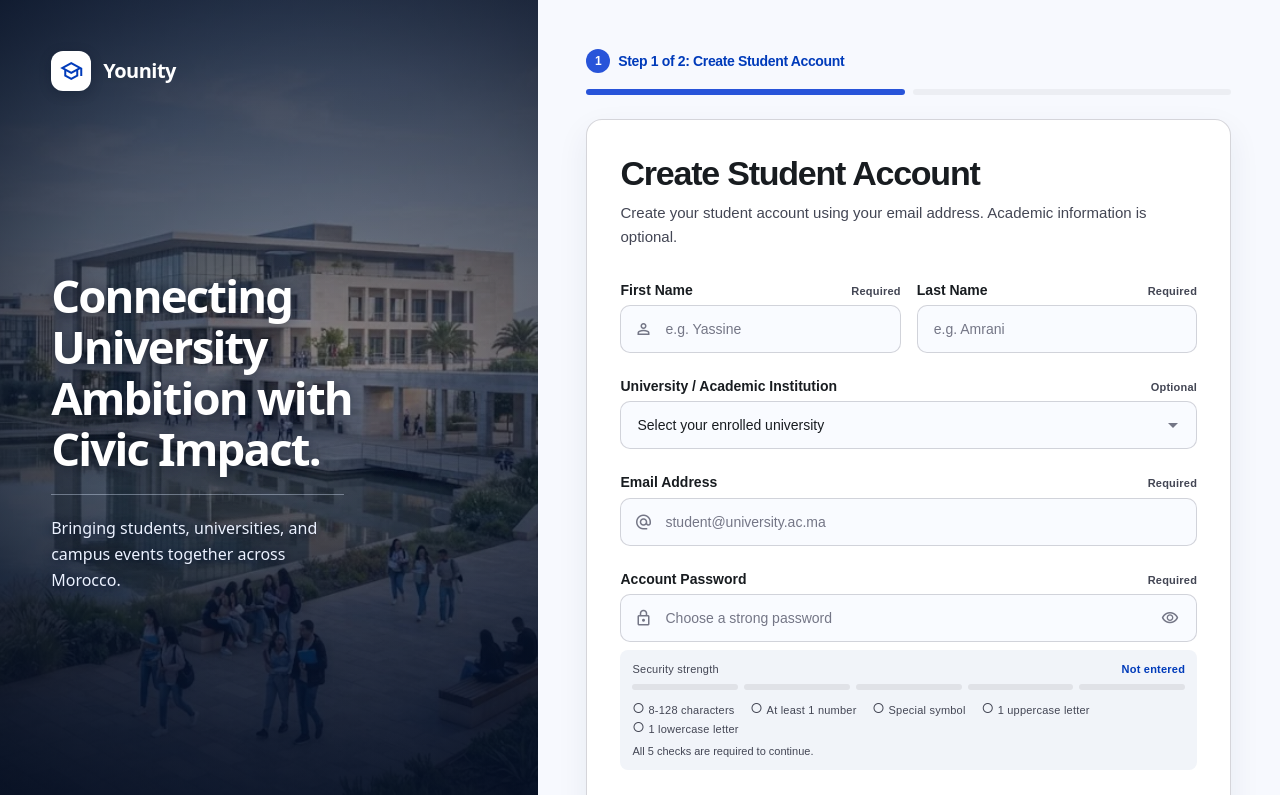
Test: password feedback and sign-in footer › updates feedback while typing and toggles visibility without submitting or losing input
In the password field labelled "Account Password": point(909, 618) [620,594,1197,642], type "Abcdefg1!"
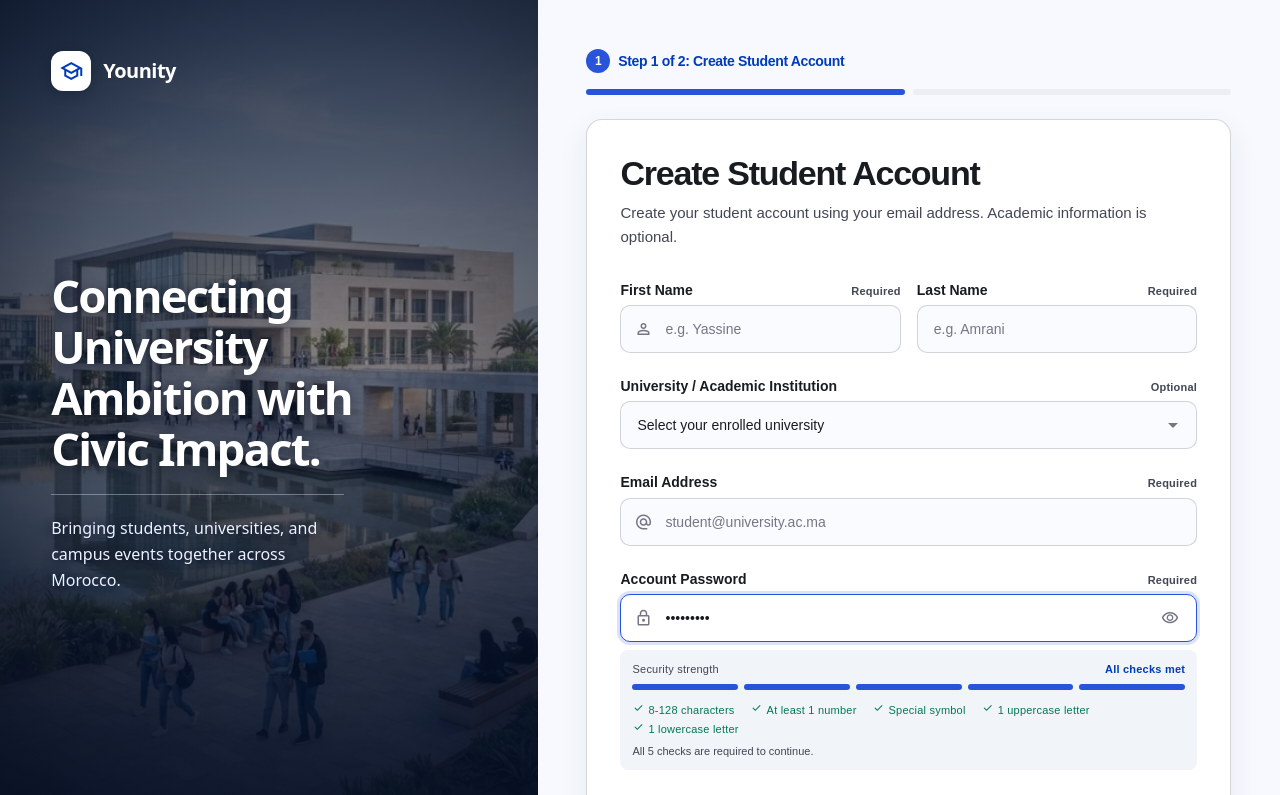
Now the progress indicator has attribute aria-valuenow="5", box [632,684,1185,690]
Click the button named "Show password": point(1170, 618) [1157,605,1183,631]
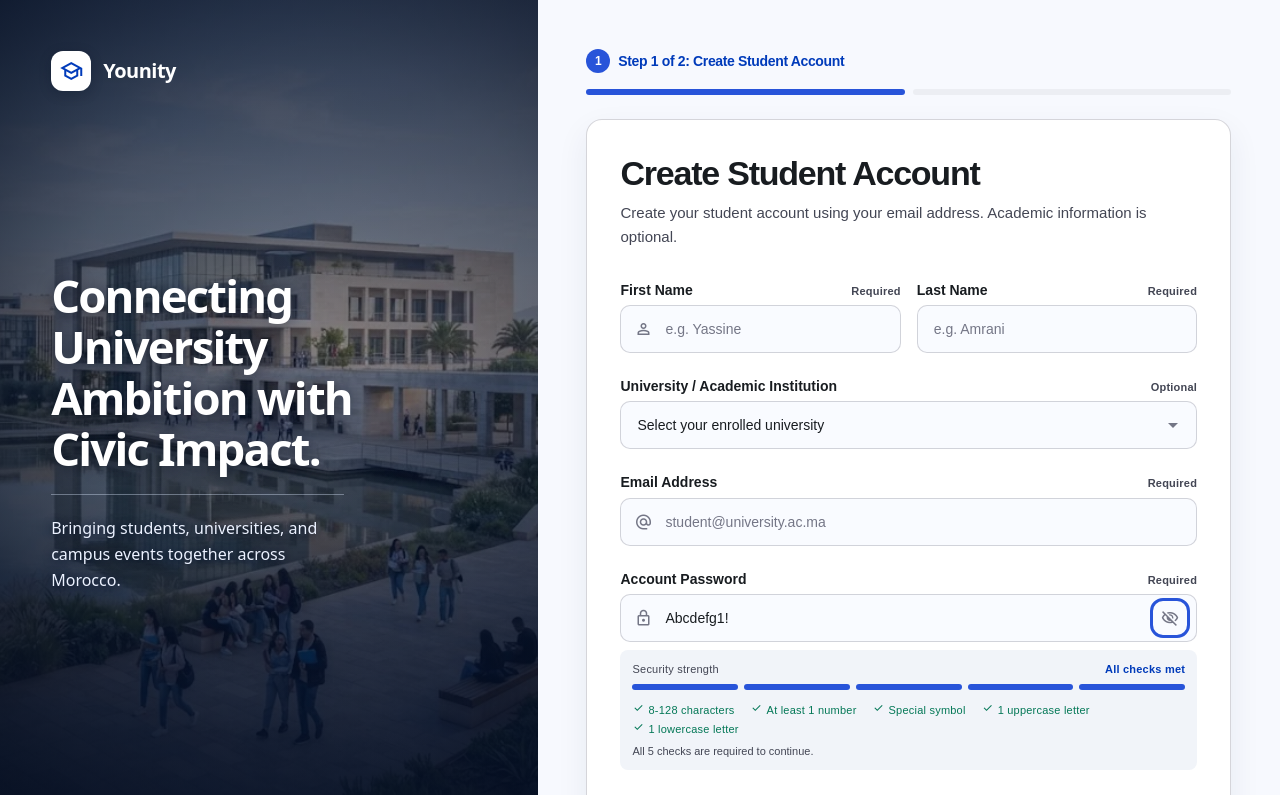
Now the field labelled "Account Password" shows its text, box [620,594,1197,642]
Click the button named "Hide password": point(1170, 618) [1157,605,1183,631]
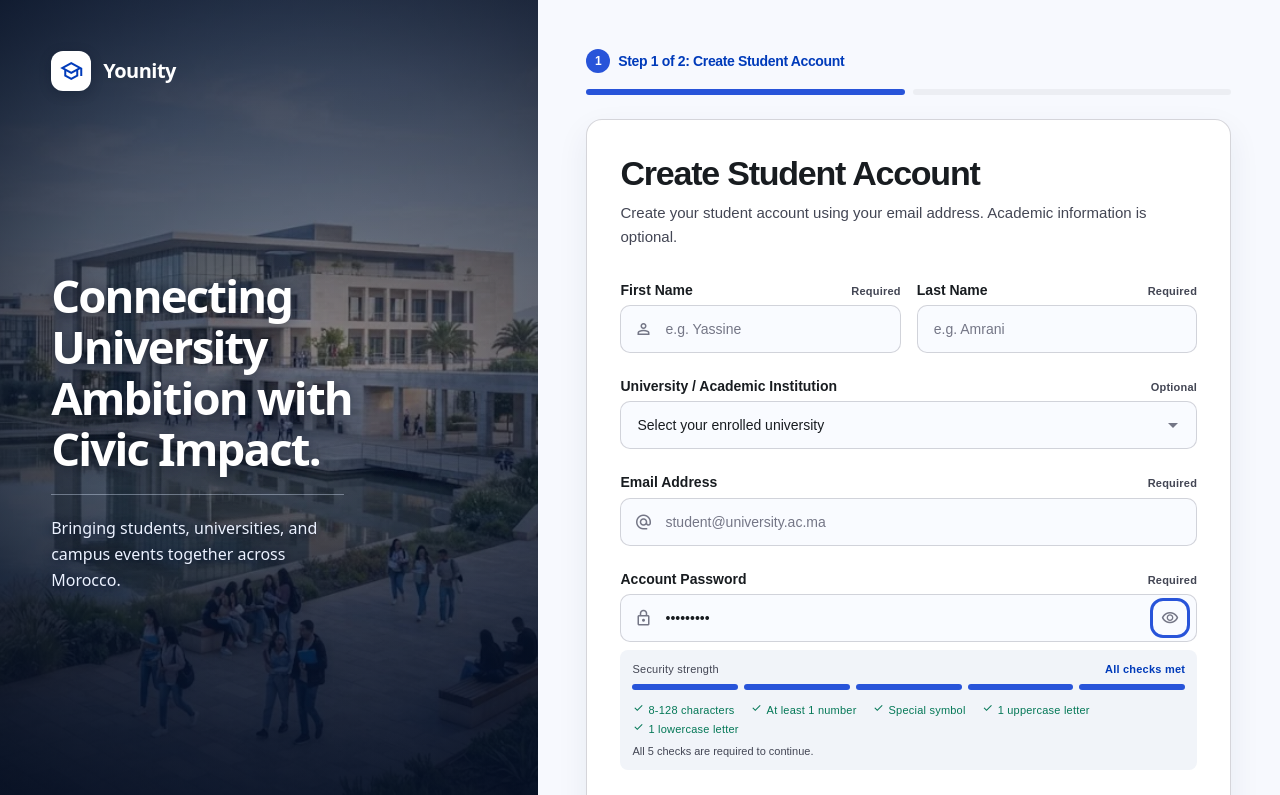
Now the password field labelled "Account Password" hides its text, box [620,594,1197,642]
